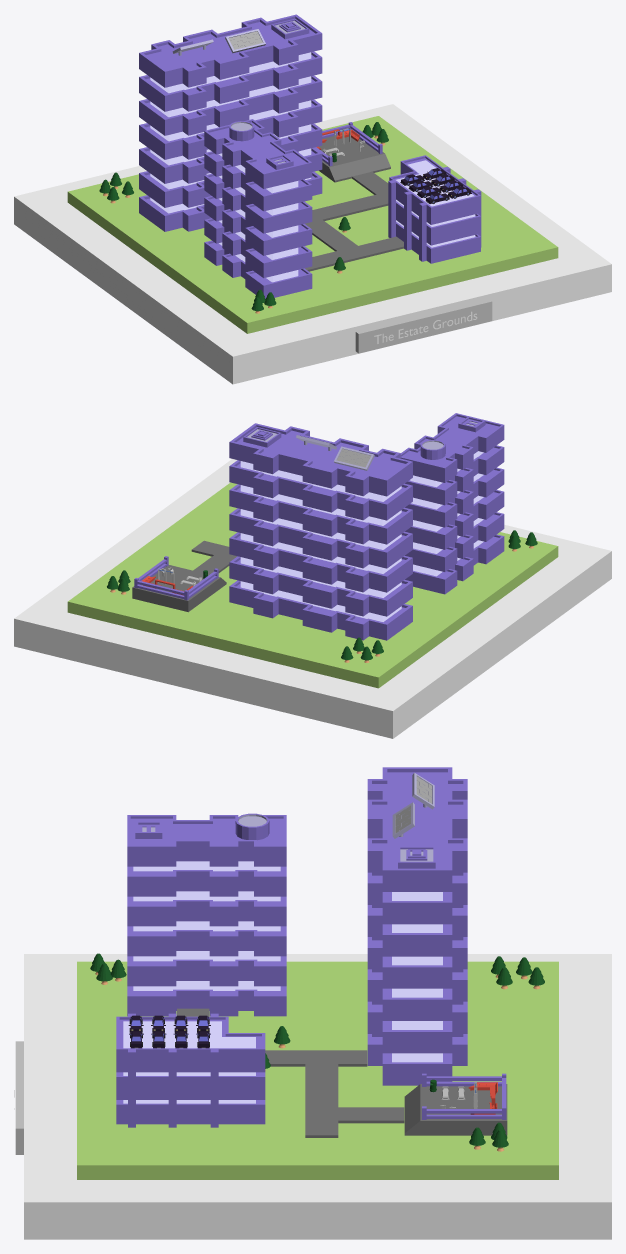
Rendered from Resizing_city.gltf.
3 renders of one model, top to bottom at view 1: azimuth 30°, elevation 25°; view 2: azimuth 150°, elevation 25°; view 3: azimuth 270°, elevation 25°, orthographic. The views are drawn at different scales.
Parts seen in each view (by area): view 1: City; view 2: City; view 3: City.
Boxes of the visible parts, x1=… form: City: x1=14, y1=14, x2=611, y2=384; City: x1=14, y1=413, x2=611, y2=738; City: x1=14, y1=767, x2=611, y2=1239.
Size of the model in its own units: 0.112 by 0.0587 by 0.1139.
